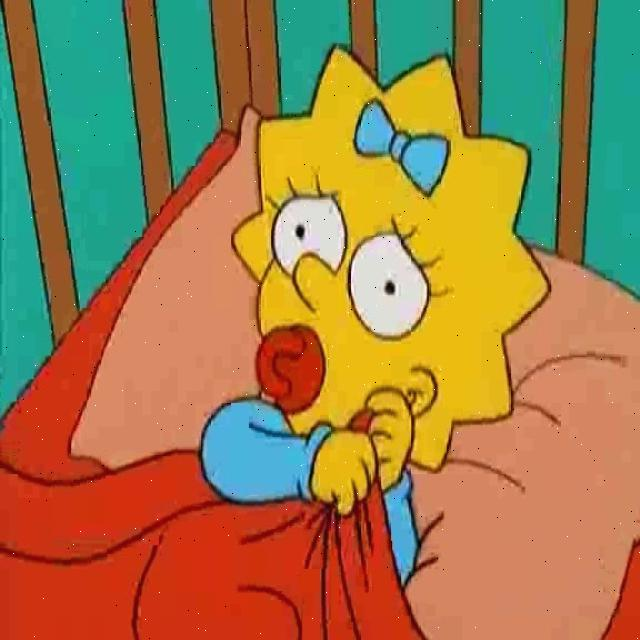Maggie Simpson: (228, 42, 552, 474)
